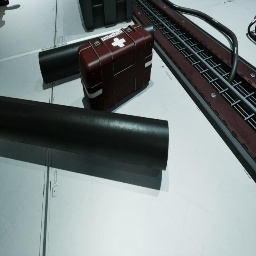FireExtinguisher ]: (247, 15, 256, 42)
FirstAidBox ,: (77, 24, 153, 112)
